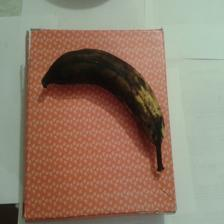Banana Rotten: (42, 49, 174, 120)
